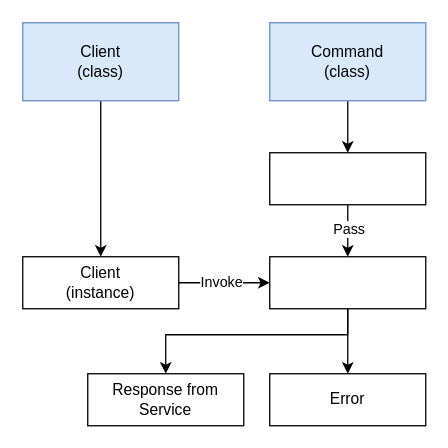
Some shapes in this 448 by 448 pixel diagram are drawn without their labels. Here are the shapes that lost their labels. From the top down, the box of each, then its label:
(268, 151, 426, 205): Command (instance)
(268, 255, 426, 309): Send Method
